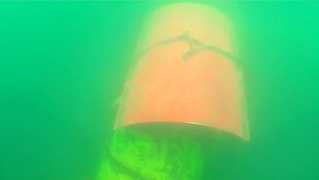leak: (113, 3, 251, 141)
pipe: (94, 122, 223, 179)
